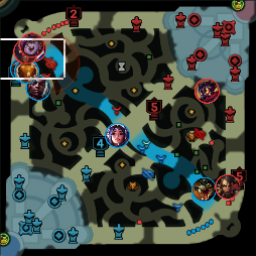bard: (15, 60, 39, 84)
draven: (14, 41, 37, 63)
ekko: (26, 77, 48, 100)
irelia: (106, 122, 128, 146)
lulu: (21, 33, 44, 56)
nidalee: (214, 175, 238, 198)
renekton: (194, 178, 215, 200)
viktor: (195, 78, 219, 103)
